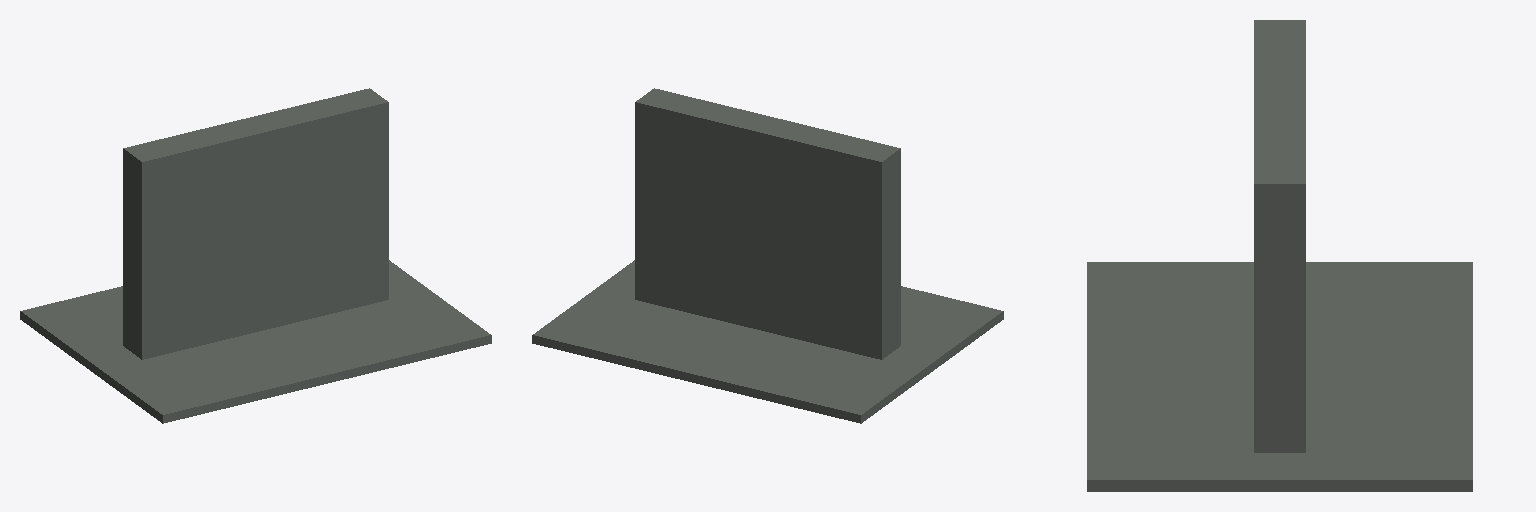
robot.urdf — PP_Stand_Thin:
<?xml version="1.0" encoding="utf-8"?>
<!-- This URDF was automatically created by SolidWorks to URDF Exporter! Originally created by [author] ([email redacted]) 
     Commit Version: 1.6.0-1-g15f4949  Build Version: 1.6.7594.29634
     For more information, please see http://wiki.ros.org/sw_urdf_exporter -->
<robot
  name="PP_Stand_Thin">
  <link
    name="base_link">
    <inertial>
      <origin
        xyz="3.70547995521113E-17 -9.86724867997304E-18 0.0786363636363636"
        rpy="0 0 0" />
      <mass
        value="43.56" />
      <inertia
        ixx="0.369475"
        ixy="-3.44795083688047E-17"
        ixz="2.94473267384993E-17"
        iyy="0.670127"
        iyz="-2.32149805563971E-18"
        izz="0.506748" />
    </inertial>
    <visual>
      <origin
        xyz="0 0 0"
        rpy="0 0 0" />
      <geometry>
        <mesh
          filename="package://PP_Stand_Thin/meshes/base_link.STL" />
      </geometry>
      <material
        name="">
        <color
          rgba="0.431372549019608 0.450980392156863 0.431372549019608 1" />
      </material>
    </visual>
    <collision>
      <origin
        xyz="0 0 0"
        rpy="0 0 0" />
      <geometry>
        <mesh
          filename="package://PP_Stand_Thin/meshes/base_link.STL" />
      </geometry>
    </collision>
  </link>
</robot>

--- What the picture shows (computed from the rendered views, not written in the file) ---
3 views of the same robot in one strip: view 1: azimuth 30°, elevation 25°; view 2: azimuth 150°, elevation 25°; view 3: azimuth 270°, elevation 25° (orthographic).
Robot: PP_Stand_Thin — 1 links, 0 joints (none); root link base_link; default pose: all joints at 0.
Visible links, largest first — view 1: base_link; view 2: base_link; view 3: base_link.
Boxes of the visible links, left/top/right/bottom form: base_link: left=20, top=88, right=491, bottom=423; base_link: left=532, top=88, right=1003, bottom=423; base_link: left=1087, top=20, right=1472, bottom=491.
Bounding box of the posed robot: 0.4 × 0.3 × 0.24 m (x, y, z).
1 mesh visuals loaded from 1 distinct referenced files (1 binary STL).